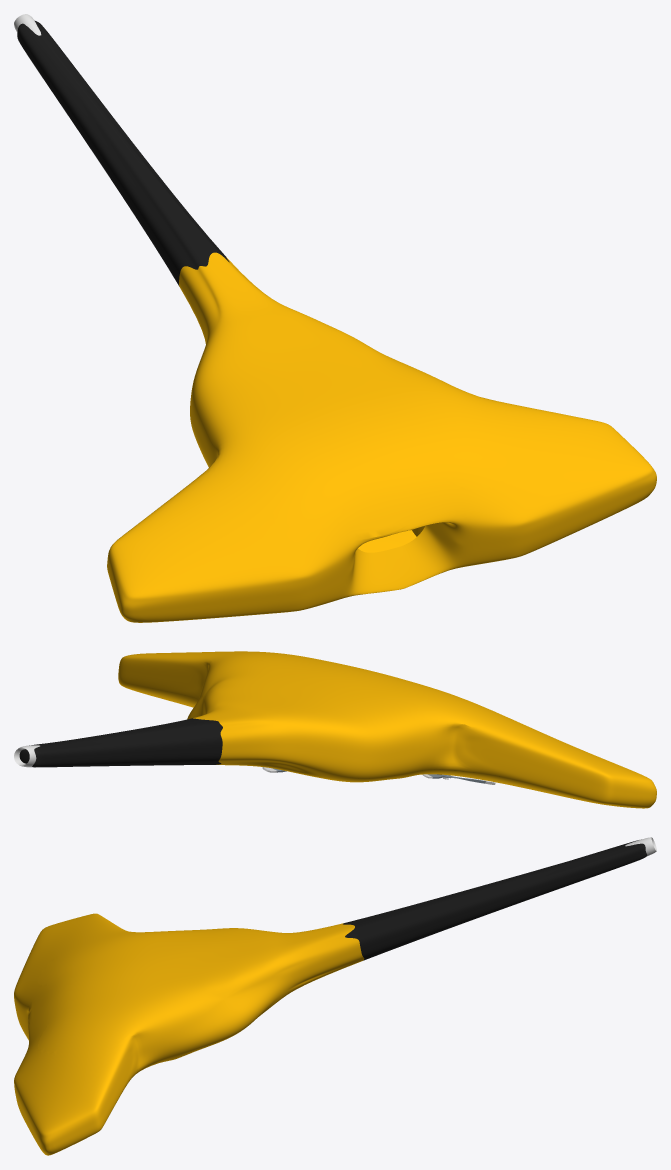
File: Ethel.glb
3 views of the same model, one above another, from view 1: azimuth 30°, elevation 25°; view 2: azimuth 150°, elevation 25°; view 3: azimuth 270°, elevation 25° (orthographic). The views are drawn at different scales.
Parts seen in each view (by area): view 1: BodyWebGL; view 2: BodyWebGL; view 3: BodyWebGL.
Part boxes in pixels (x1,y1,x2,y2): BodyWebGL: [14, 14, 656, 622]; BodyWebGL: [14, 651, 656, 808]; BodyWebGL: [14, 837, 656, 1155].
Size of the model in its own units: 5.37 by 2.85 by 6.91.
